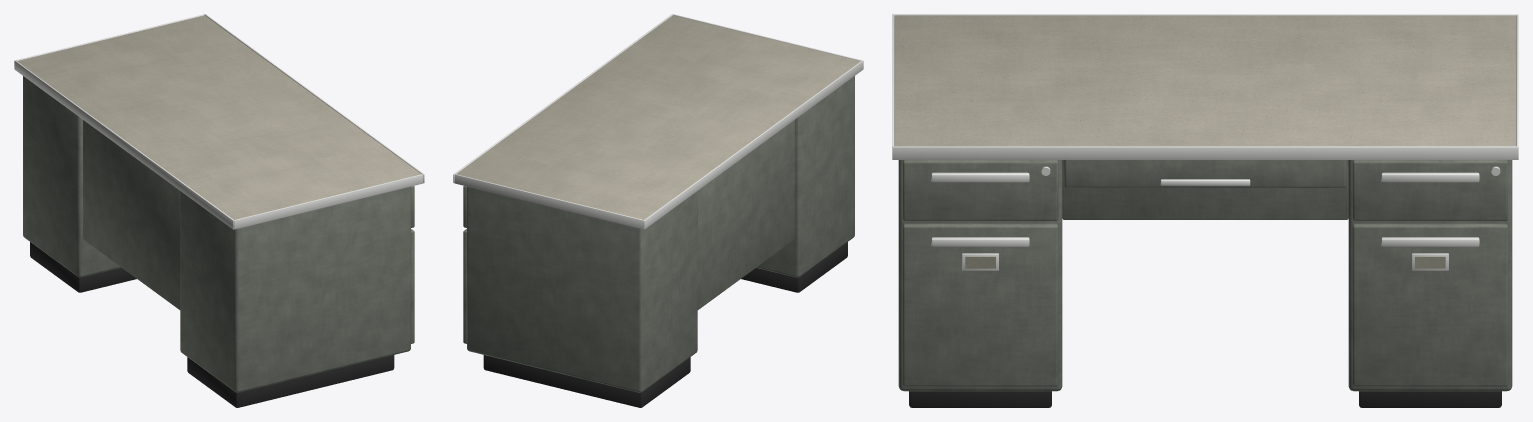
File: outpost_desk.glb
3 renders of one model, left to right at view 1: azimuth 30°, elevation 25°; view 2: azimuth 150°, elevation 25°; view 3: azimuth 270°, elevation 25°, orthographic. The views are drawn at different scales.
Visible parts, largest first — view 1: top, pedestal.001, modesty, pedestal, toekick.001, band, band.002, toekick, band.001, drawer.003, band.003; view 2: top, pedestal, modesty, pedestal.001, toekick, band, band.003, toekick.001, band.001, drawer.001, band.002; view 3: top, drawer.001, drawer.003, modesty, band.001, drawer.002, drawer, pencildrawer, pedestal, pedestal.001, toekick, toekick.001 (+6 smaller).
Boxes of the visible parts, <box> form: top: <box>17,15,421,219</box>; pedestal.001: <box>180,186,410,392</box>; modesty: <box>83,120,180,309</box>; pedestal: <box>23,76,121,277</box>; toekick.001: <box>187,355,394,407</box>; band: <box>14,60,234,229</box>; band.002: <box>234,174,422,229</box>; toekick: <box>30,242,136,292</box>; band.001: <box>204,14,424,183</box>; drawer.003: <box>411,229,414,343</box>; band.003: <box>16,14,204,60</box>; top: <box>456,15,860,219</box>; pedestal: <box>467,186,697,392</box>; modesty: <box>697,120,794,309</box>; pedestal.001: <box>756,76,854,277</box>; toekick: <box>483,355,690,407</box>; band: <box>643,60,863,229</box>; band.003: <box>455,174,643,229</box>; toekick.001: <box>741,242,847,292</box>; band.001: <box>453,14,673,183</box>; drawer.001: <box>463,229,466,343</box>; band.002: <box>673,14,861,60</box>; top: <box>894,15,1516,146</box>; drawer.001: <box>1352,223,1507,386</box>; drawer.003: <box>903,223,1058,386</box>; modesty: <box>1062,160,1348,219</box>; band.001: <box>892,146,1518,159</box>; drawer.002: <box>903,160,1058,220</box>; drawer: <box>1352,160,1507,220</box>; pencildrawer: <box>1064,160,1346,187</box>; pedestal: <box>1348,160,1512,391</box>; pedestal.001: <box>898,160,1062,391</box>; toekick: <box>1359,391,1501,407</box>; toekick.001: <box>909,391,1051,407</box>.
Size of the model in its own units: 0.772 by 0.752 by 1.53.
5 materials, 3 textured.
